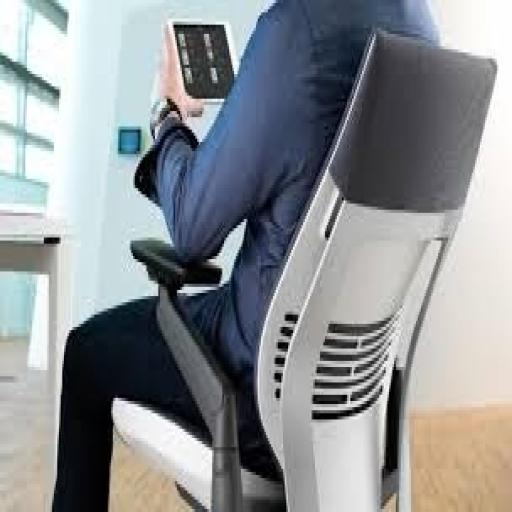sitting: (47, 0, 443, 509)
